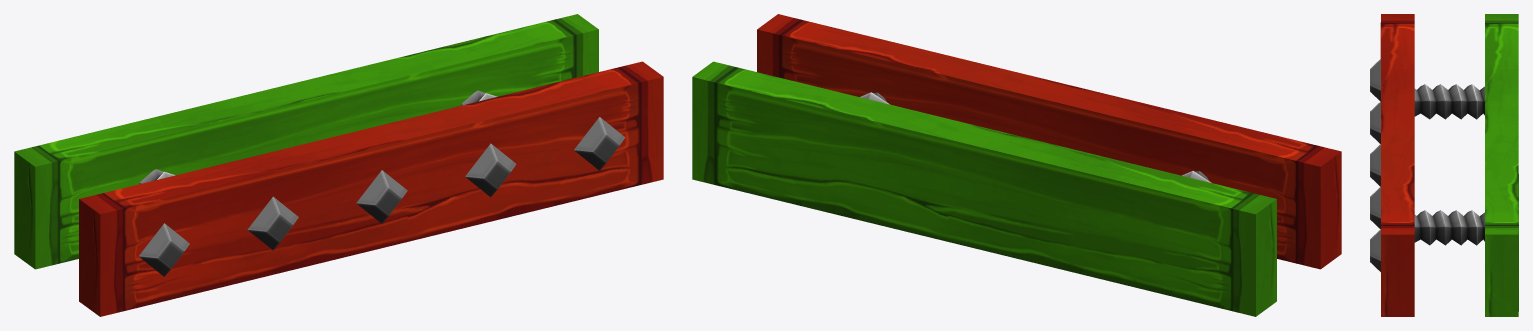
The model's file is fence_burger_03.fbx.
The picture shows the model from 3 angles, left to right: view 1: azimuth 30°, elevation 25°; view 2: azimuth 150°, elevation 25°; view 3: azimuth 270°, elevation 25°; orthographic projection. The views are drawn at different scales.
Visible parts, largest first — view 1: front_wall_2, Back_wall_4; view 2: Back_wall_4, front_wall_2; view 3: front_wall_2, Back_wall_4, spring_5, spring_6.
Part boxes in pixels (box(x1,y1,x2,y2)): front_wall_2: box(79, 61, 663, 316); Back_wall_4: box(14, 14, 598, 269); Back_wall_4: box(692, 61, 1276, 316); front_wall_2: box(757, 14, 1341, 269); front_wall_2: box(1370, 14, 1414, 316); Back_wall_4: box(1485, 14, 1518, 316); spring_5: box(1414, 84, 1484, 119); spring_6: box(1414, 210, 1484, 245).
Size of the model in its own units: 230 by 40 by 65.51.
